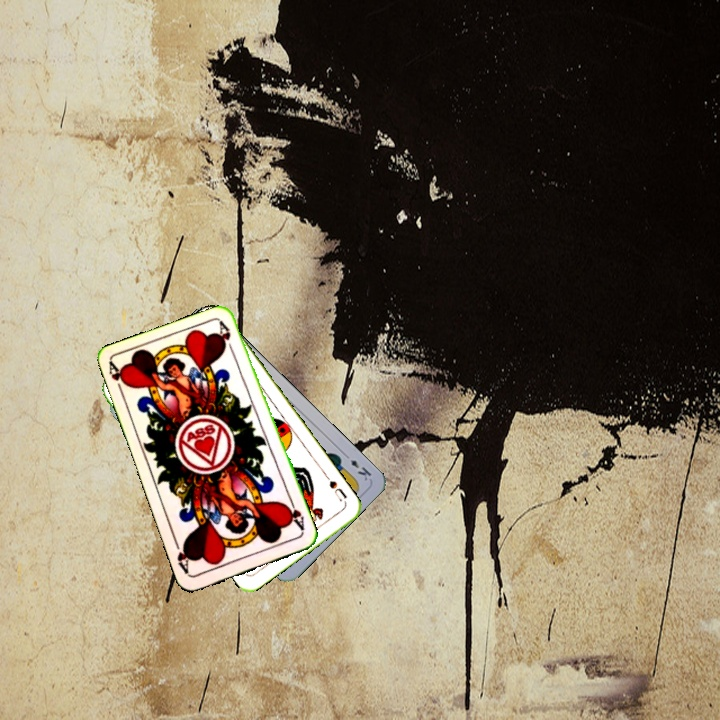EK: (340, 449, 374, 483)
HA: (280, 495, 307, 535), (105, 359, 130, 399)
SU: (321, 471, 349, 507)
